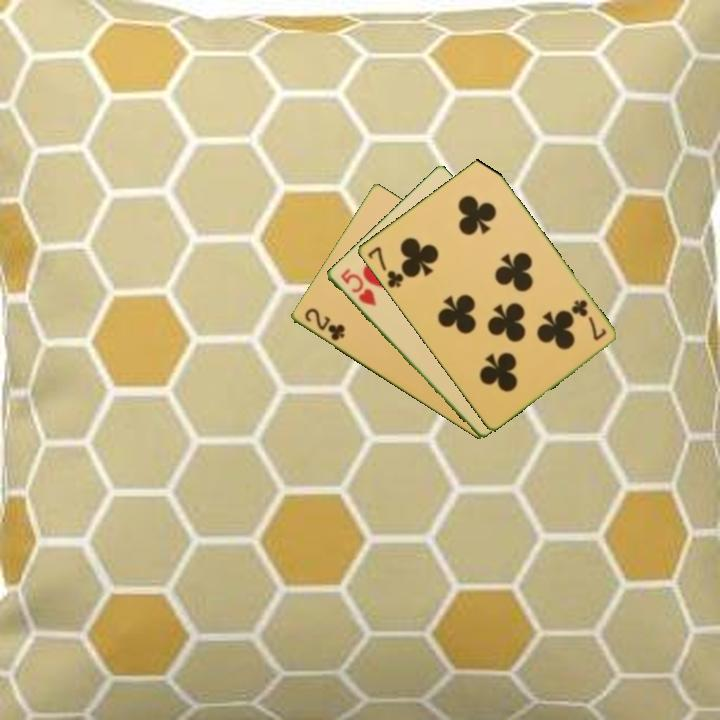2c: (301, 304, 348, 344)
5h: (336, 265, 379, 309)
7c: (364, 243, 406, 291), (567, 296, 609, 344)
